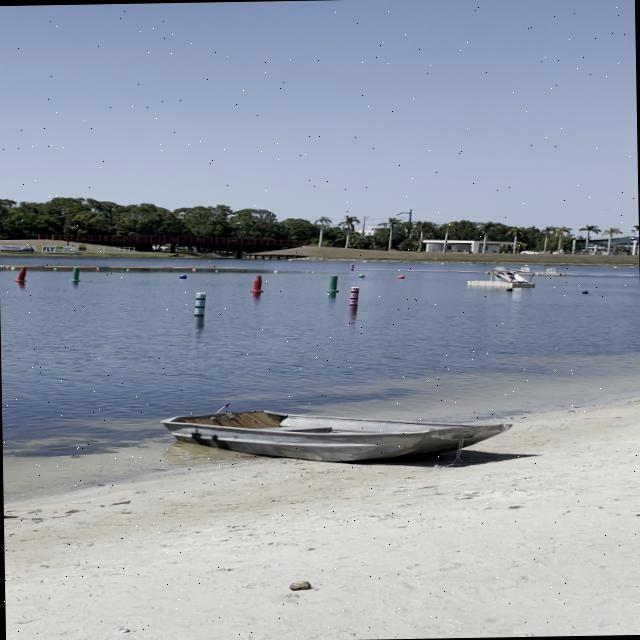buoy: (357, 272, 364, 278), (178, 274, 188, 278), (580, 290, 588, 294), (506, 286, 512, 290), (398, 274, 403, 278)
